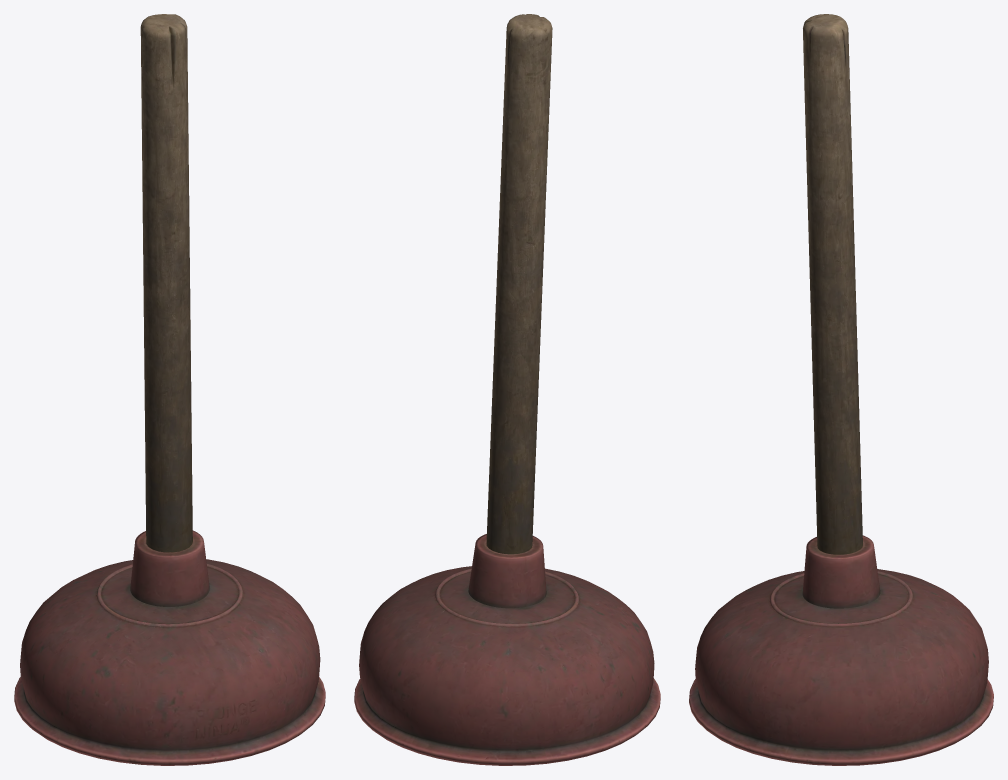
File: plunger.glb
3 renders of one model, left to right at view 1: azimuth 30°, elevation 25°; view 2: azimuth 150°, elevation 25°; view 3: azimuth 270°, elevation 25°, orthographic. The views are drawn at different scales.
Parts seen in each view (by area): view 1: plunger; view 2: plunger; view 3: plunger.
Part boxes in pixels (bbox=[...]): plunger: bbox=[14, 14, 325, 765]; plunger: bbox=[354, 14, 660, 765]; plunger: bbox=[689, 14, 993, 765].
Bounding box in the file's own units: 0.1721 × 0.4211 × 0.1721.
Materials: 1 (1 with a texture image).
